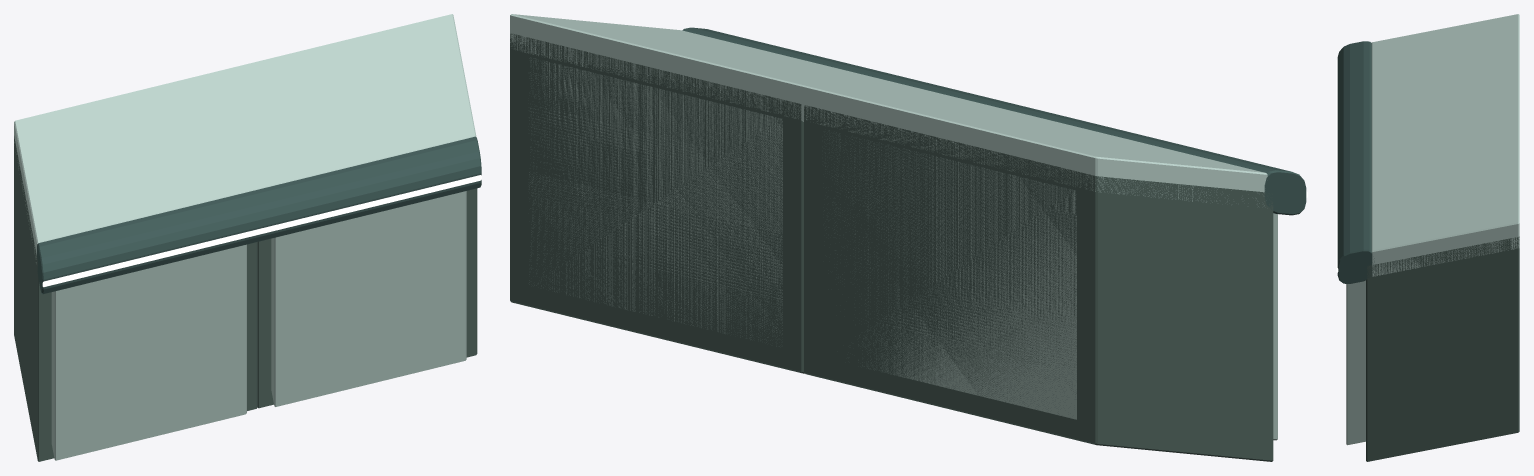
File: Terrain_TopRun2.gltf
The picture shows the model from 3 angles, left to right: view 1: azimuth 30°, elevation 25°; view 2: azimuth 150°, elevation 25°; view 3: azimuth 270°, elevation 25°; orthographic projection. The views are drawn at different scales.
Parts seen in each view (by area): view 1: Terrain_TopRun2_baked; view 2: Terrain_TopRun2_baked; view 3: Terrain_TopRun2_baked.
Part boxes in pixels (x1,y1,x2,y2): Terrain_TopRun2_baked: [14, 14, 481, 461]; Terrain_TopRun2_baked: [510, 14, 1307, 461]; Terrain_TopRun2_baked: [1336, 14, 1519, 461].
Bounding box in the file's own units: 2.29 × 1.18 × 0.74.
